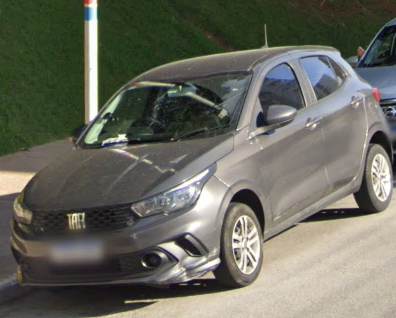car: (11, 45, 391, 290)
